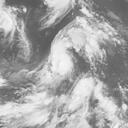cyclone: (49, 51, 76, 79)
